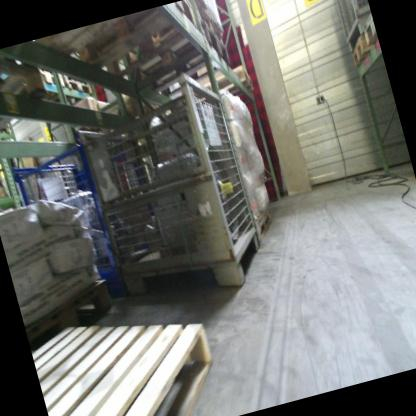pallet: (19, 256, 243, 416), (0, 0, 206, 111), (103, 17, 229, 99), (153, 61, 263, 124), (0, 38, 57, 121), (59, 66, 98, 104), (252, 202, 285, 246), (346, 28, 381, 68), (354, 13, 379, 51), (0, 118, 15, 142)
stillage: (73, 73, 271, 316), (4, 116, 172, 314), (333, 0, 363, 43), (350, 0, 374, 32)
